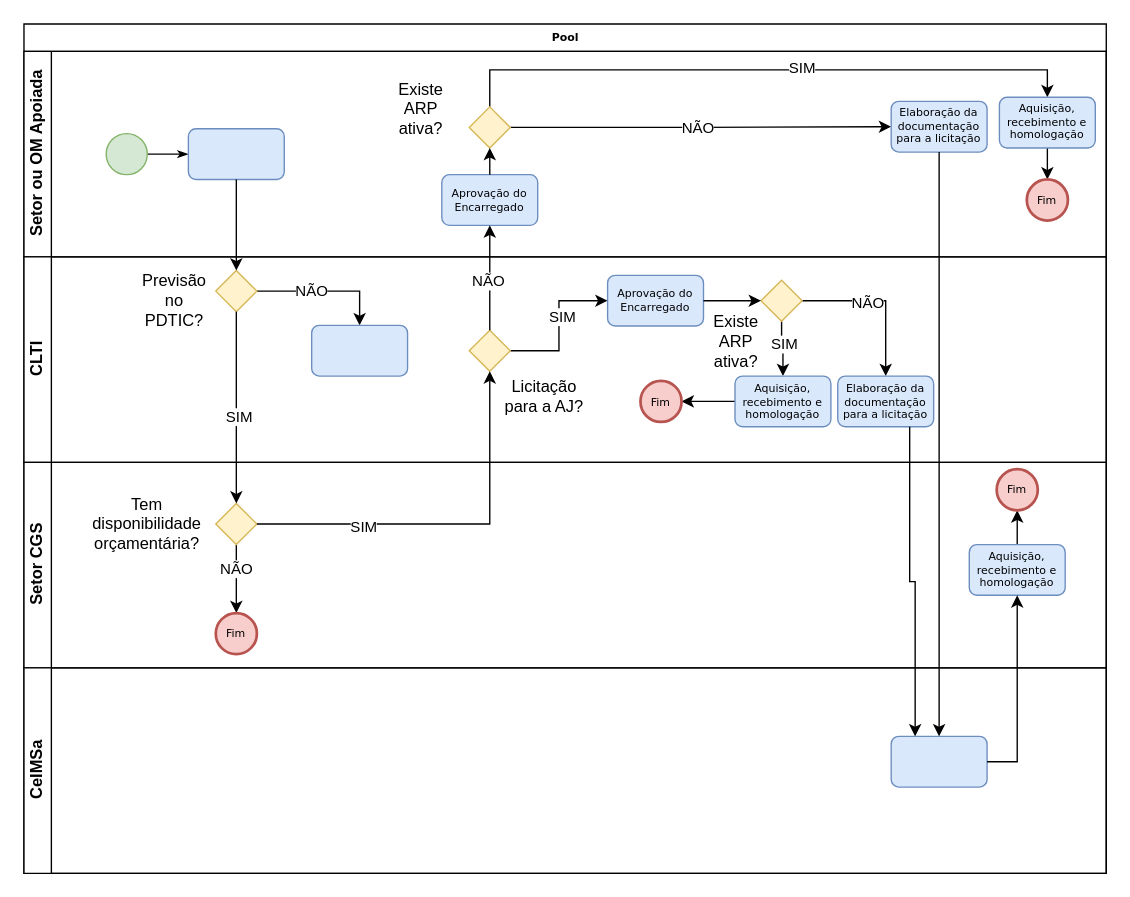
The diagram is 1130 pixels wide and 897 high, and some of its shapes have lost their labels. The centre of each missing label's shape, as x and y in pixels:
"Apresentação de necessidade" belongs at point 235,153.
"Atualizar PDTIC" belongs at point 359,350.
"Início" belongs at point 126,153.
"Verificação da documentação e realização do pregão" belongs at point 938,761.
